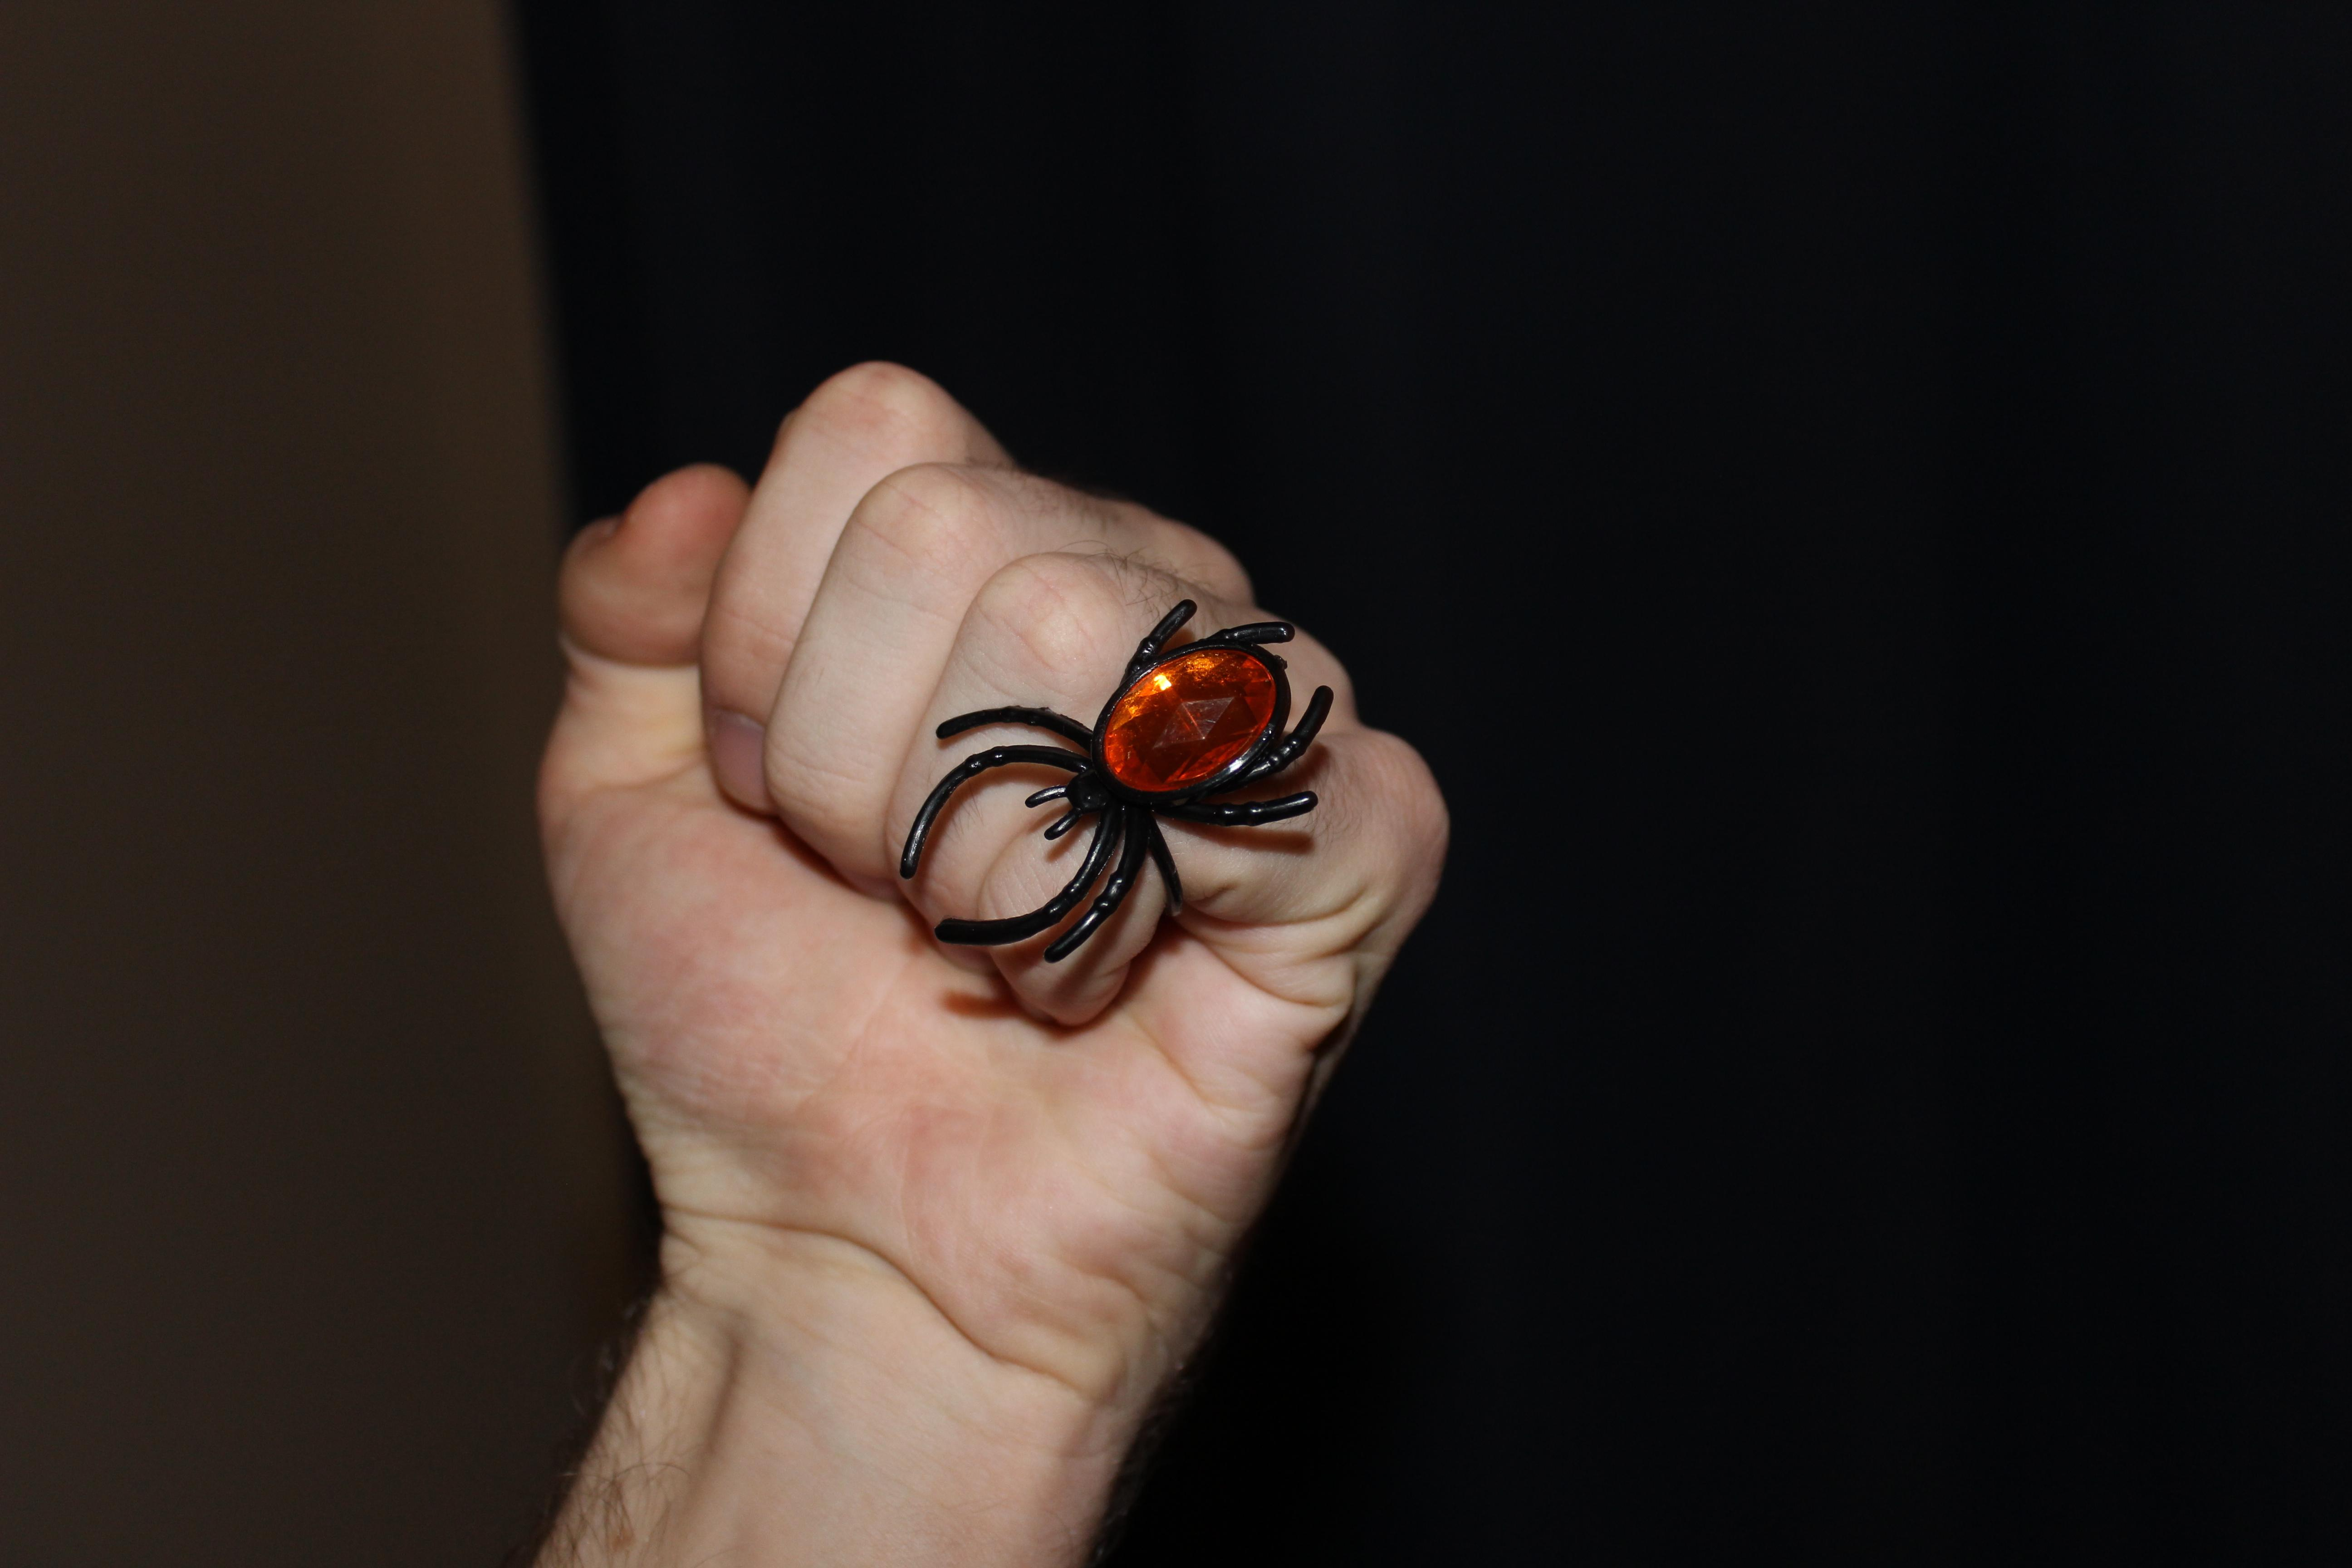spiderRing: (878, 563, 1351, 1053)
